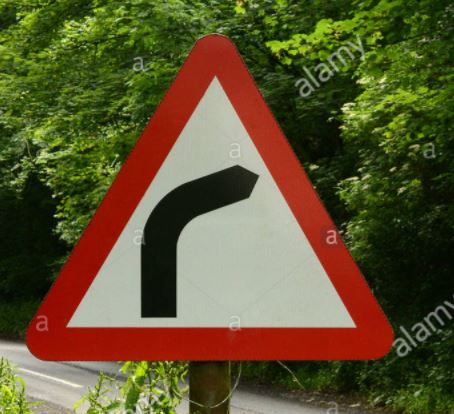Bend_to_right: (22, 27, 401, 366)
